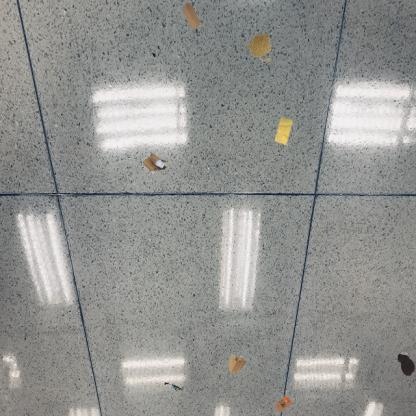dirty: (180, 1, 202, 30), (142, 151, 166, 175), (274, 116, 292, 145), (272, 394, 295, 416), (228, 354, 248, 375), (162, 380, 184, 394)
liquid: (246, 32, 272, 63), (397, 350, 415, 376)
